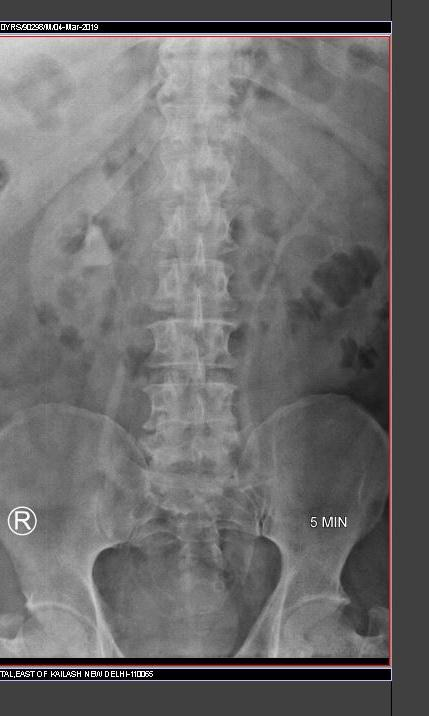vertebrae: (171, 196, 254, 252)
